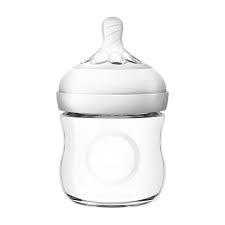BIODEGRADABLE: (28, 25, 186, 211)
